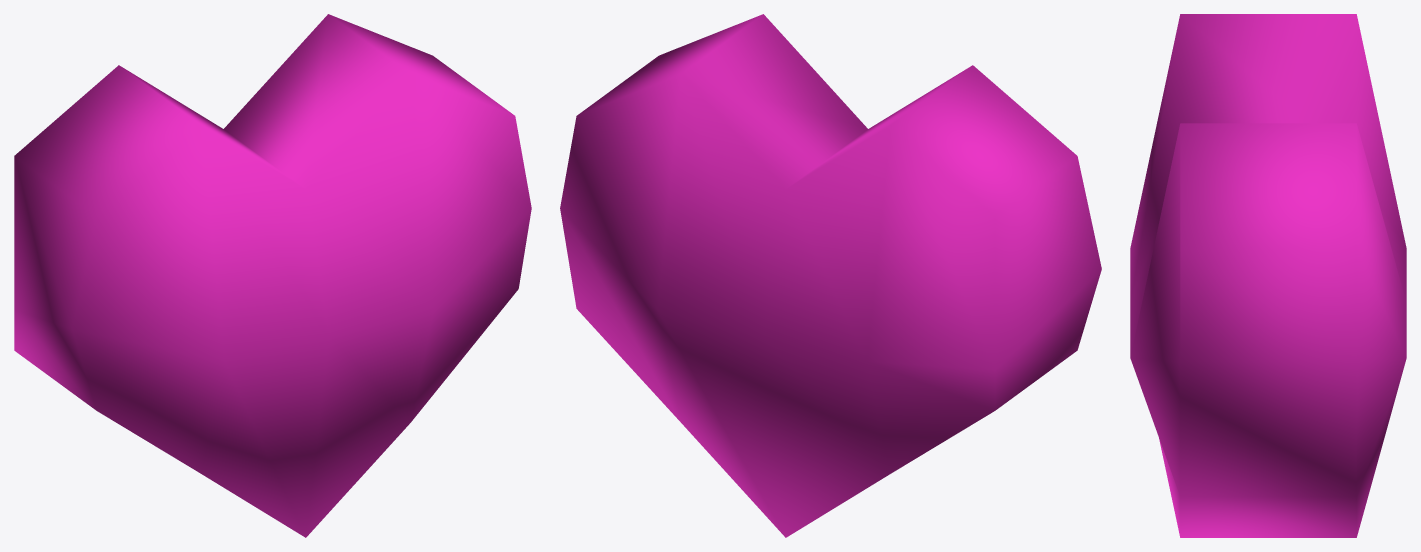
Rendered from heart.glb.
The picture shows the model from 3 angles, left to right: view 1: azimuth 30°, elevation 25°; view 2: azimuth 150°, elevation 25°; view 3: azimuth 270°, elevation 25°; orthographic projection. The views are drawn at different scales.
Parts seen in each view (by area): view 1: Cube; view 2: Cube; view 3: Cube.
Part boxes in pixels (x1,y1,x2,y2): Cube: (14,14,531,537); Cube: (560,14,1101,537); Cube: (1130,14,1406,537).
Bounding box in the file's own units: 2.19 × 2 × 1.07.
